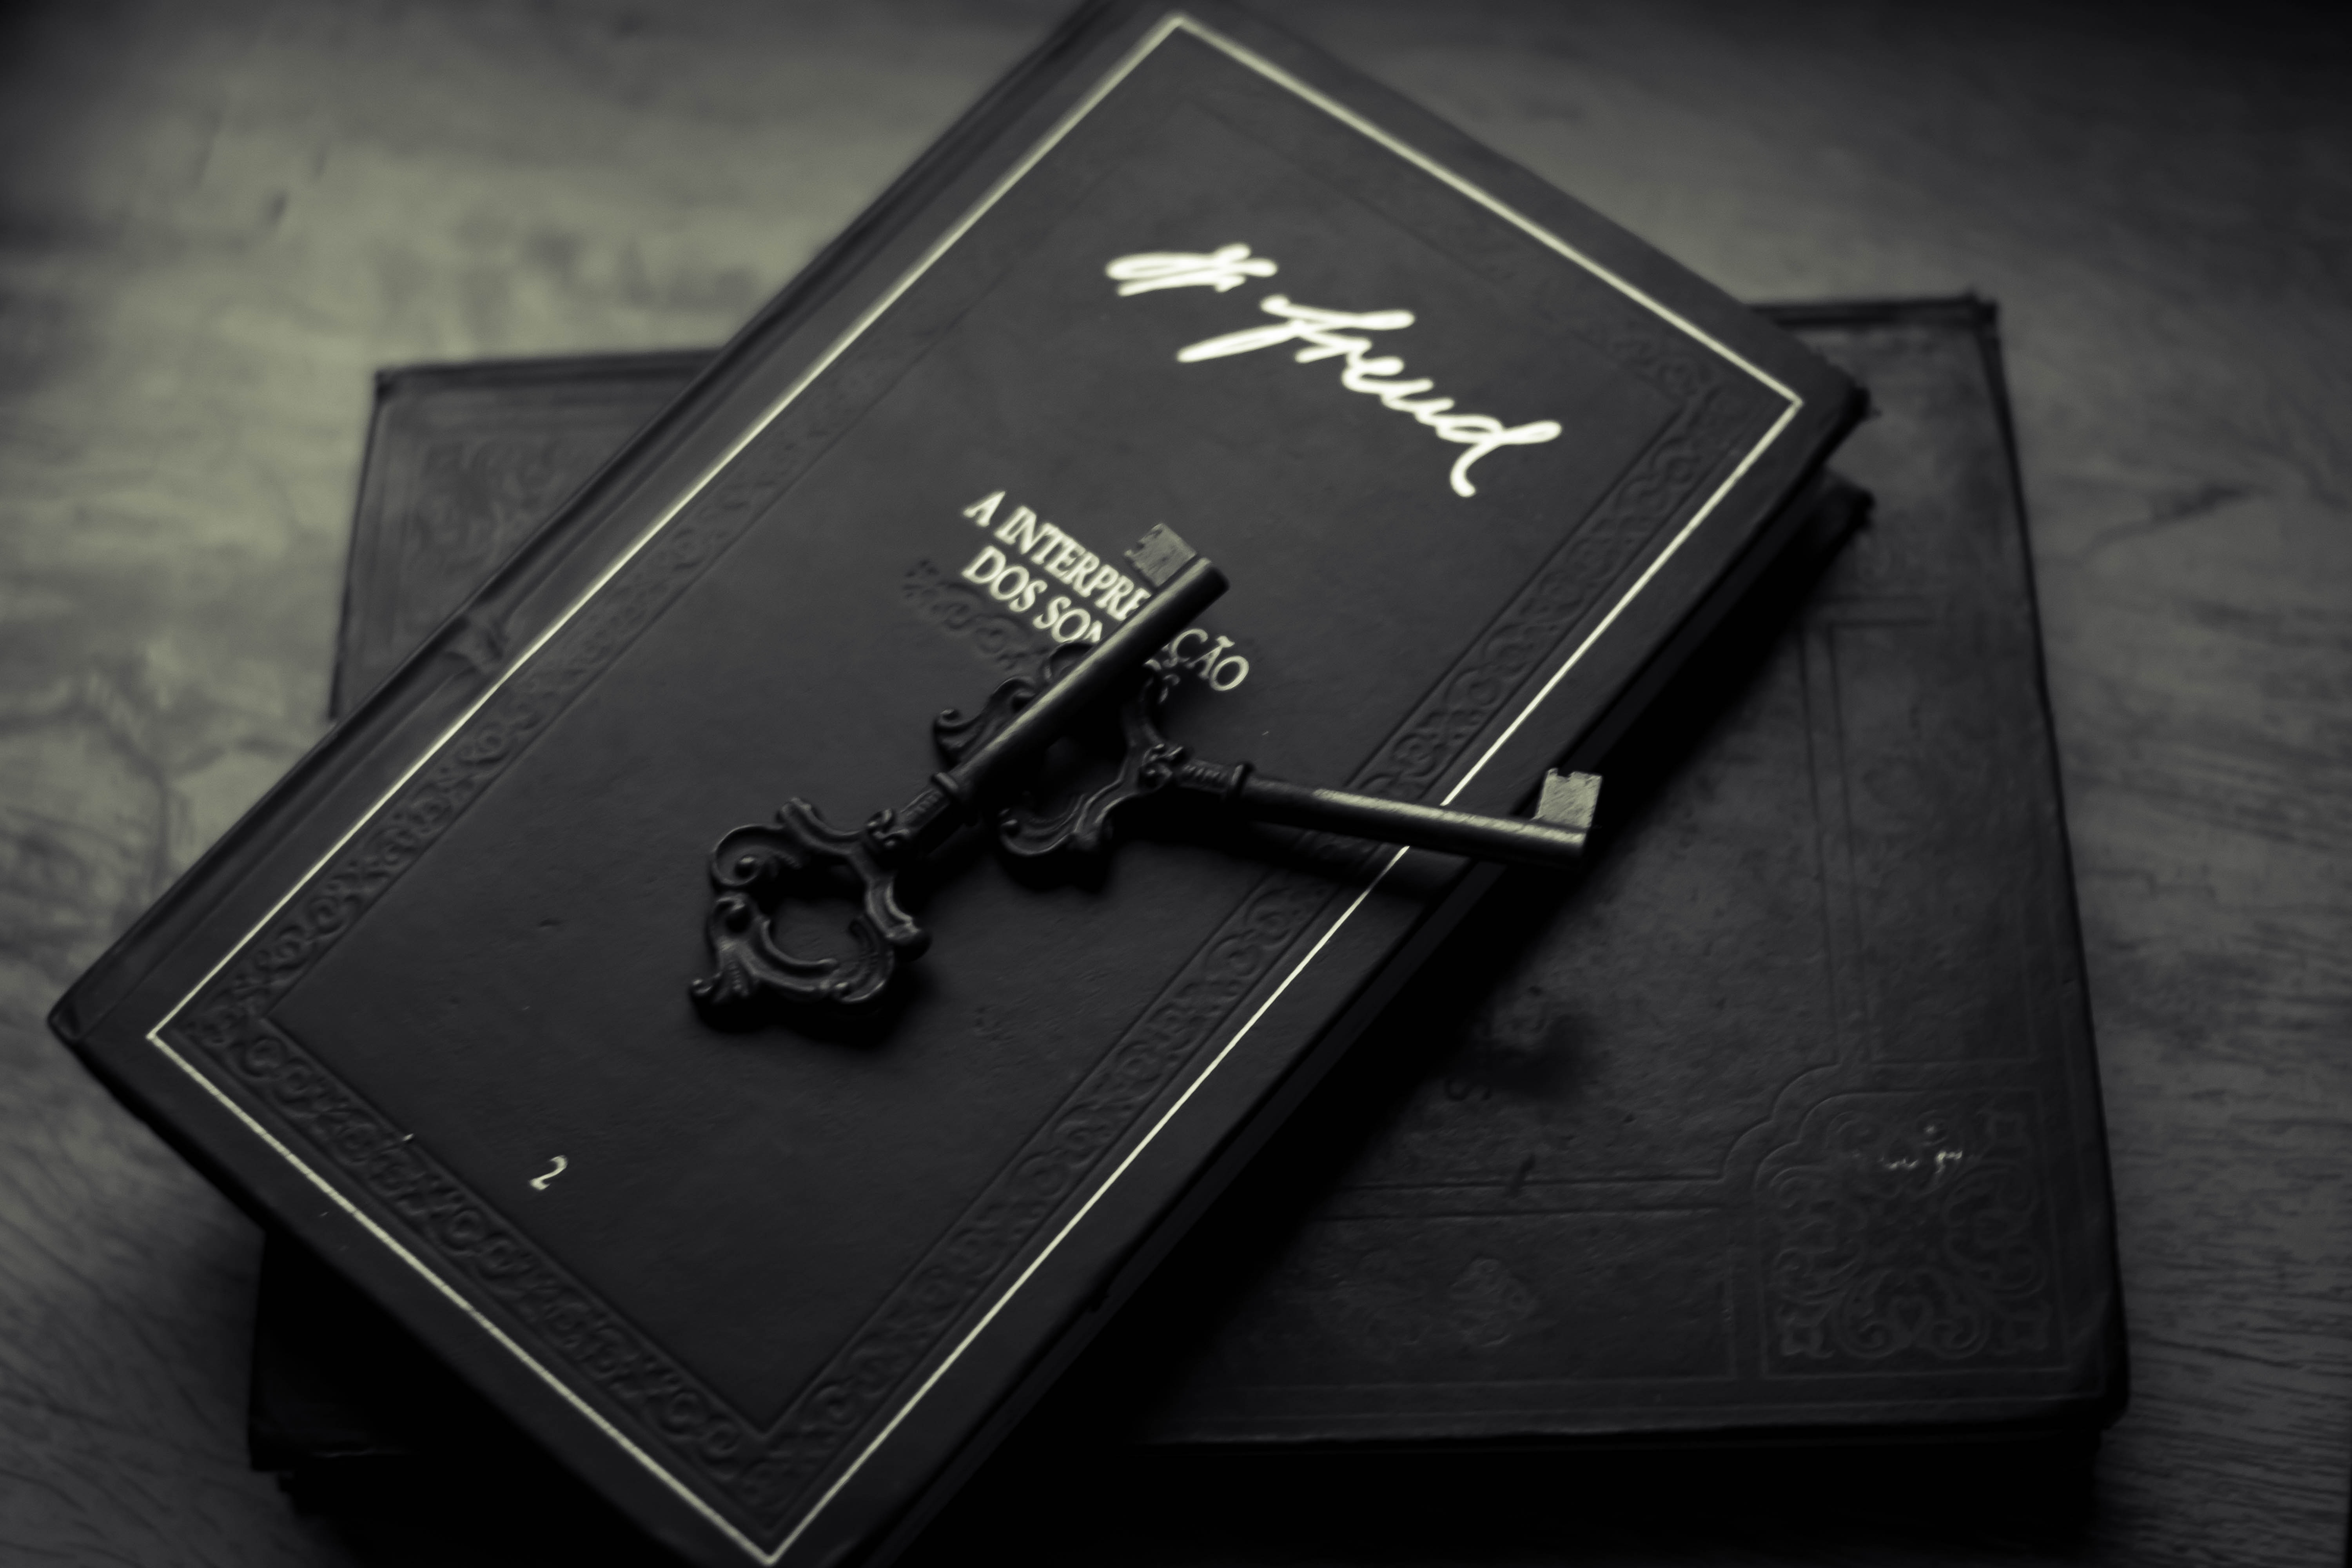key: (665, 513, 1234, 1045), (912, 628, 1640, 922)
